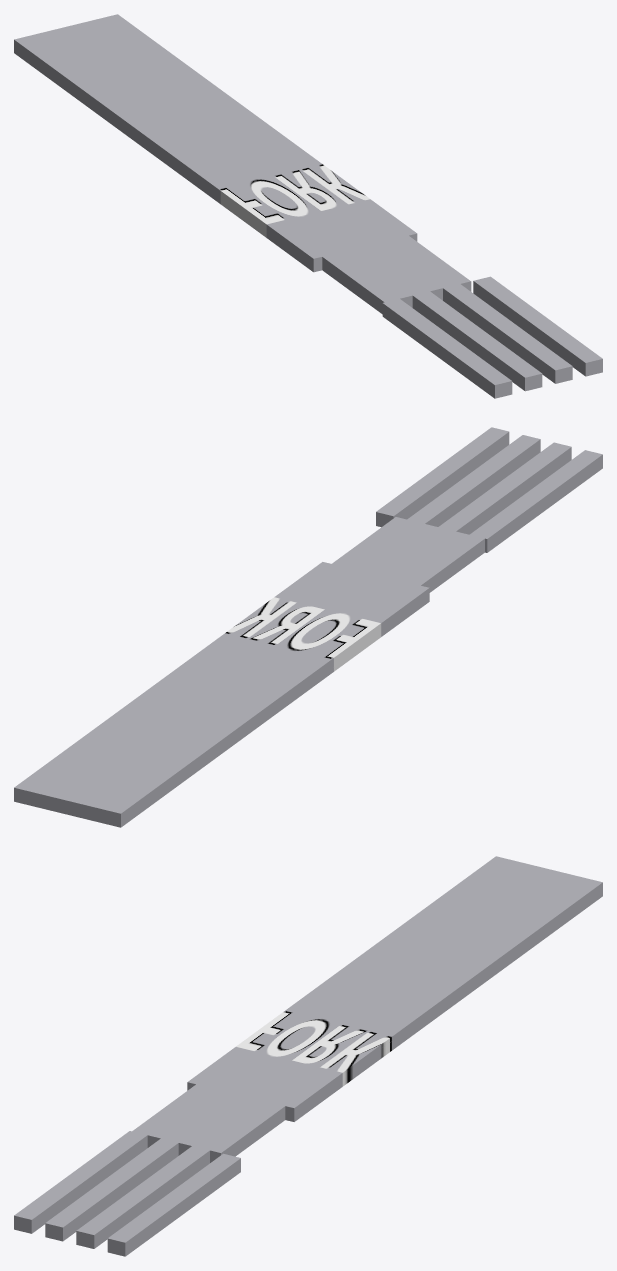
File: fork.obj
The picture shows the model from 3 angles, top to bottom: view 1: azimuth 30°, elevation 25°; view 2: azimuth 150°, elevation 25°; view 3: azimuth 330°, elevation 25°; orthographic projection. The views are drawn at different scales.
Parts seen in each view (by area): view 1: fork; view 2: fork; view 3: fork.
Part boxes in pixels (x1,y1,x2,y2): fork: (14, 14, 602, 398); fork: (14, 427, 602, 827); fork: (14, 856, 602, 1256).
Bounding box in the file's own units: 0.0265 × 0.003 × 0.19.
1 material, 1 textured.
